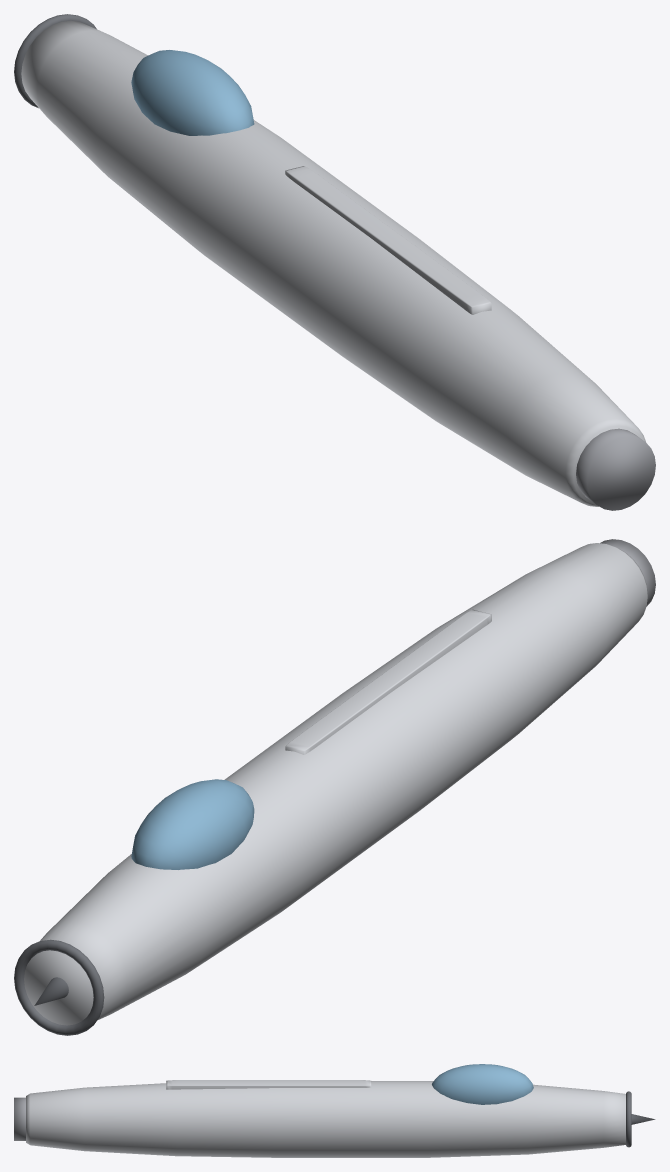
The model's file is mig21_body.glb.
3 renders of one model, top to bottom at view 1: azimuth 30°, elevation 25°; view 2: azimuth 150°, elevation 25°; view 3: azimuth 270°, elevation 25°, orthographic. The views are drawn at different scales.
Visible parts, largest first — view 1: mig21_body; view 2: mig21_body; view 3: mig21_body.
Part boxes in pixels (x1,y1,x2,y2): mig21_body: (14, 14, 655, 510); mig21_body: (14, 539, 655, 1035); mig21_body: (14, 1064, 655, 1157).
Bounding box in the file's own units: 0.92 × 1.16 × 7.67.
